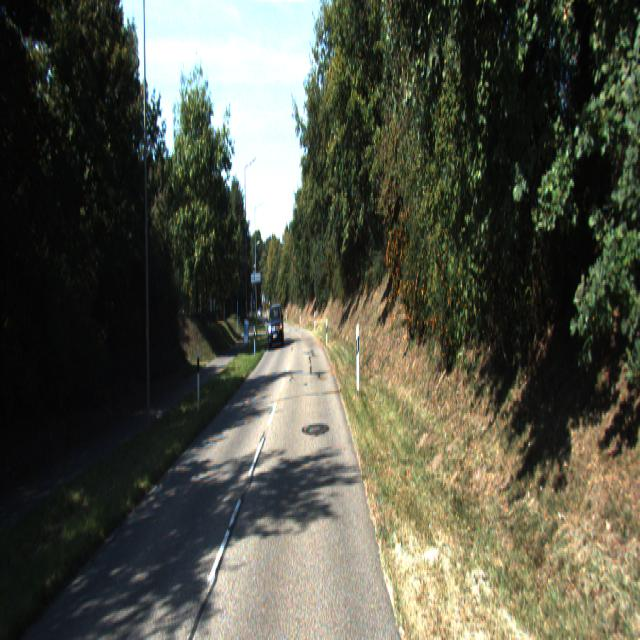Car: (267, 302, 284, 353)
